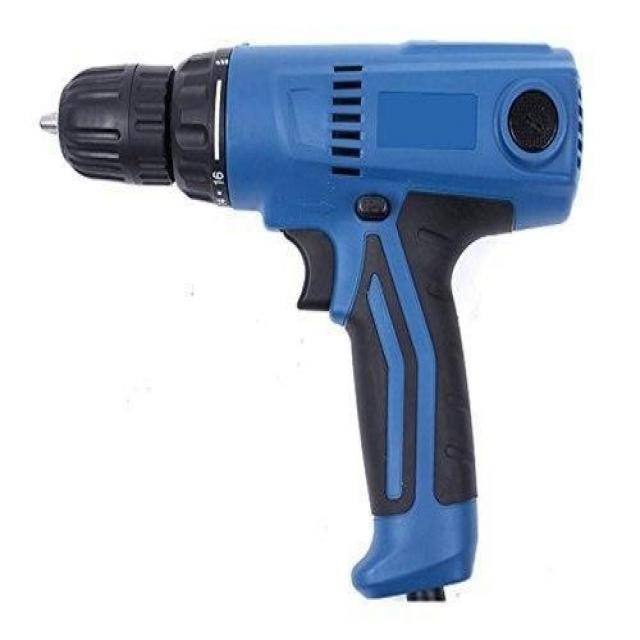drill: (41, 40, 584, 603)
